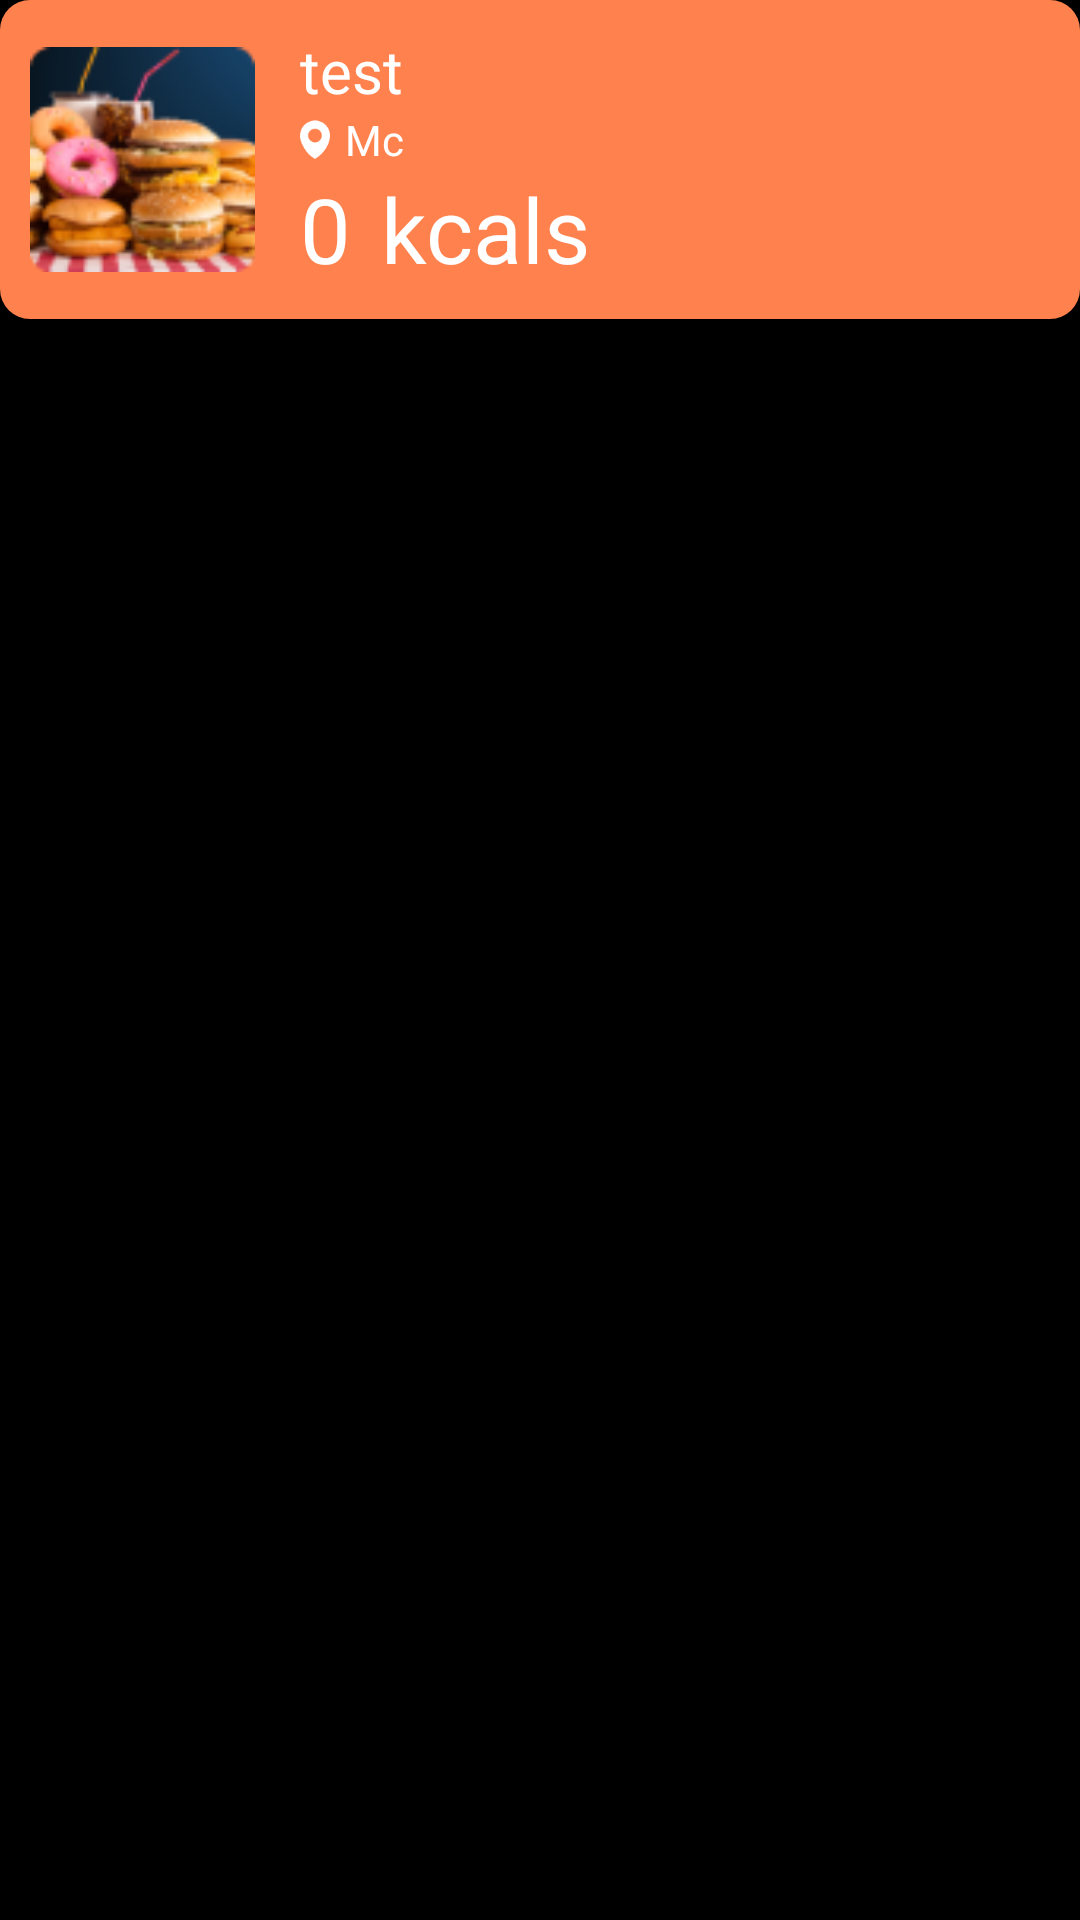

Named icons in this screenshot (1080x1920) and their centers, (x=x, y=y):
location: (x=315, y=139)
